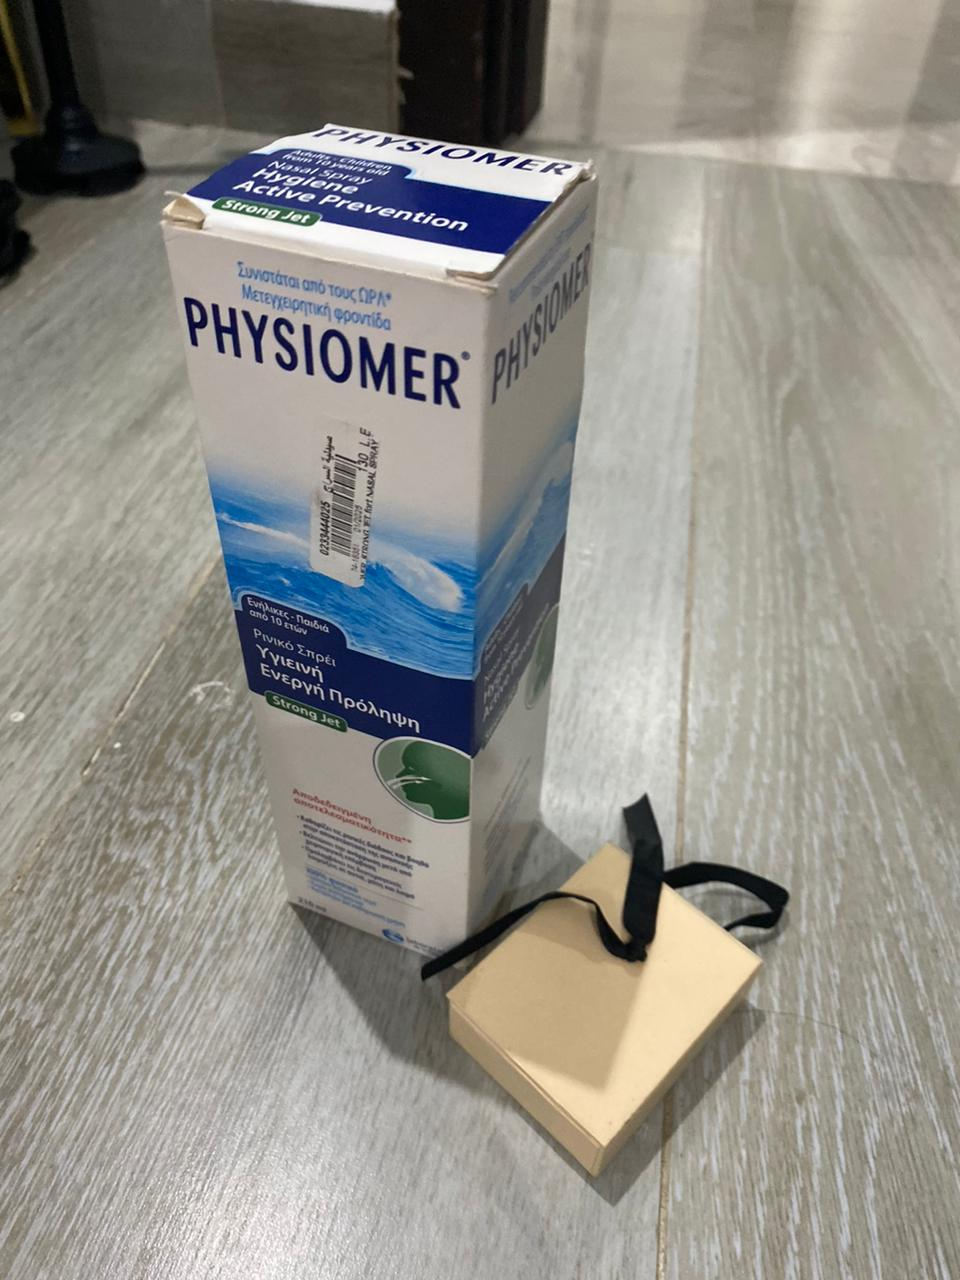Physiomer: (156, 119, 601, 970)
Yellow Box: (438, 837, 771, 1181)
